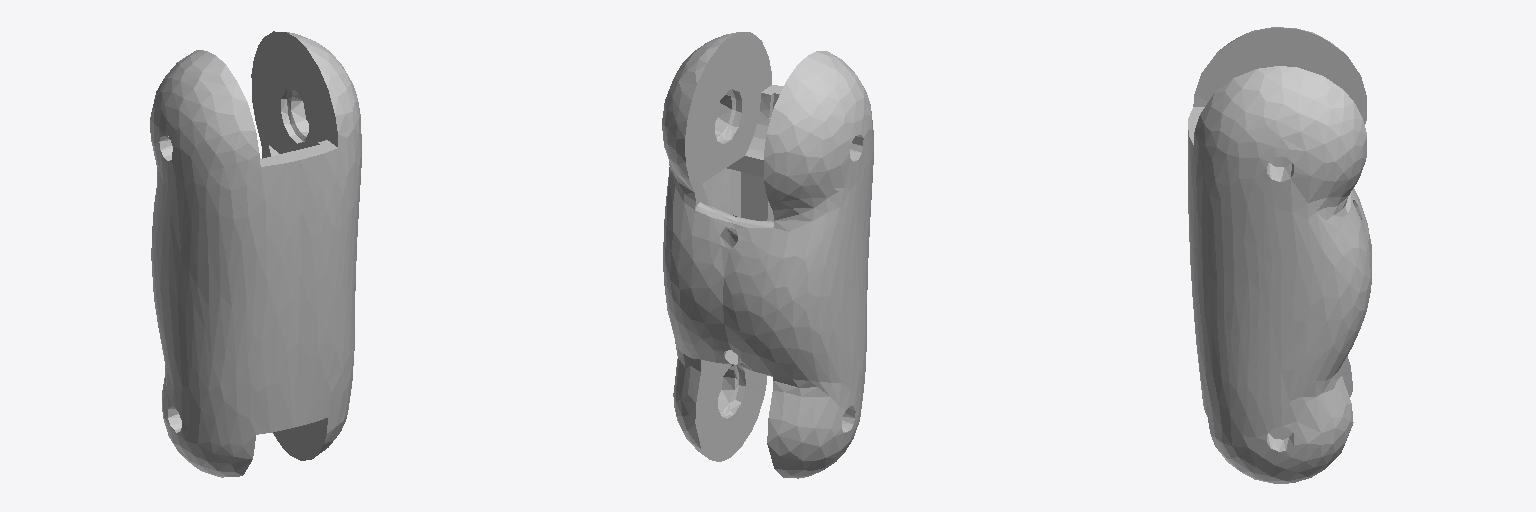
Rendered from armar-7_ring_proximal_phalanx.obj.
3 renders of one model, left to right at view 1: azimuth 30°, elevation 25°; view 2: azimuth 150°, elevation 25°; view 3: azimuth 270°, elevation 25°, orthographic.
Size of the model in its own units: 0.0219 by 0.0491 by 0.0196.